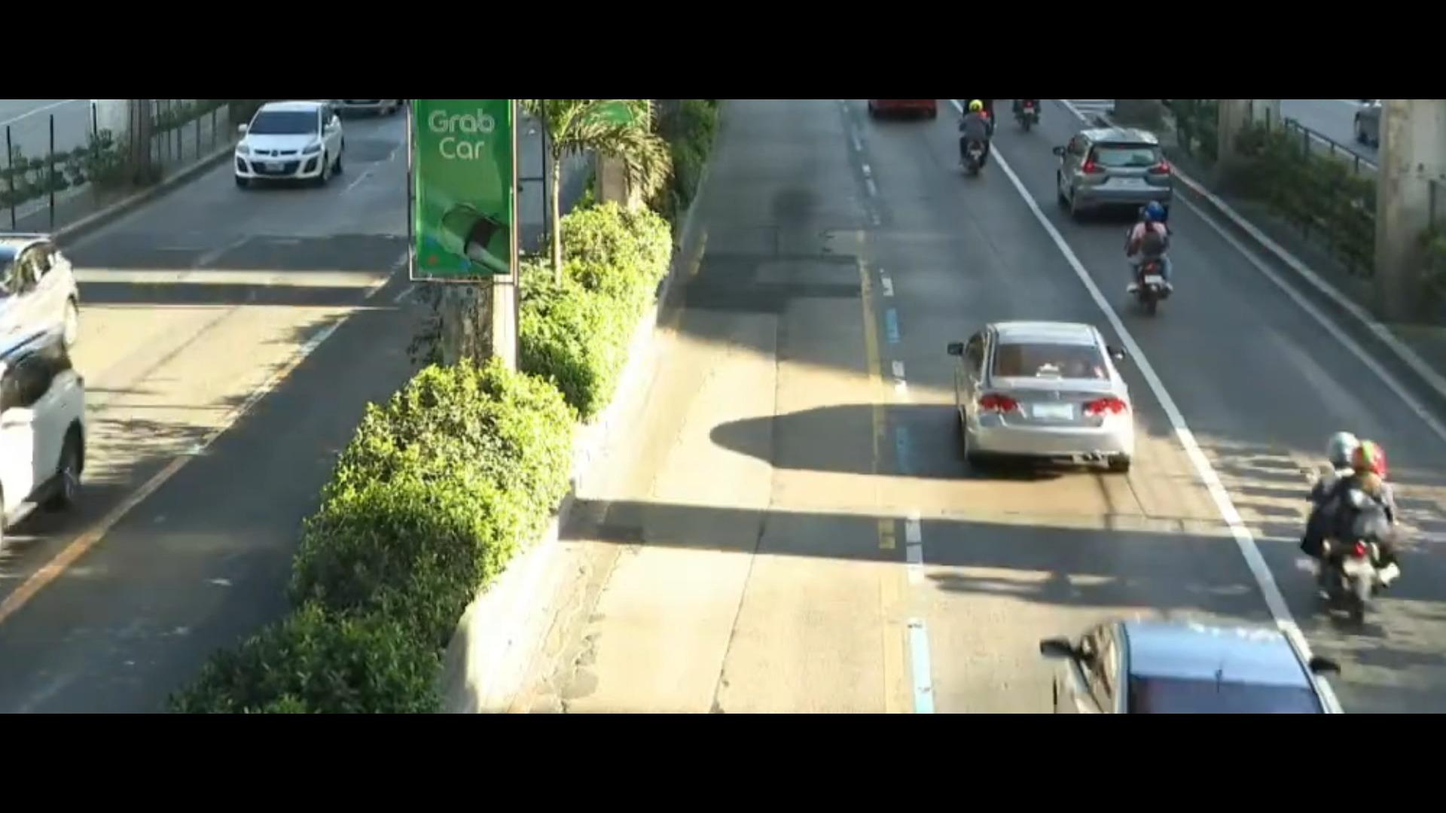Motorcycle: (1304, 422, 1435, 615), (1111, 194, 1228, 304), (944, 93, 1028, 176)
SUV: (1054, 113, 1192, 214), (206, 104, 356, 193)
Sedan: (983, 544, 1370, 721), (924, 305, 1164, 485)
